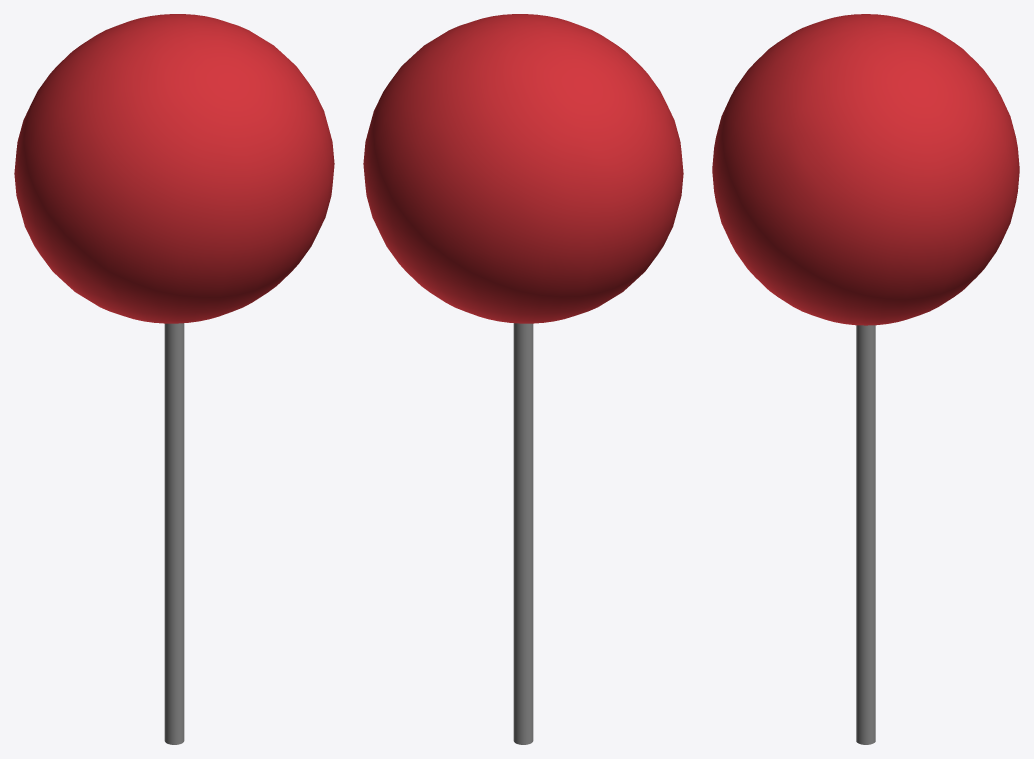
3 views of the same model, side by side, from view 1: azimuth 30°, elevation 25°; view 2: azimuth 150°, elevation 25°; view 3: azimuth 270°, elevation 25° (orthographic).
Visible parts, largest first — view 1: ball, rod; view 2: ball, rod; view 3: ball, rod.
Part boxes in pixels (x1,y1,x2,y2): ball: [14, 14, 334, 323]; rod: [164, 323, 184, 744]; ball: [363, 14, 683, 323]; rod: [513, 323, 533, 744]; ball: [712, 14, 1019, 325]; rod: [856, 325, 875, 744].
Size of the model in its own units: 0.033 by 0.08 by 0.0314.
